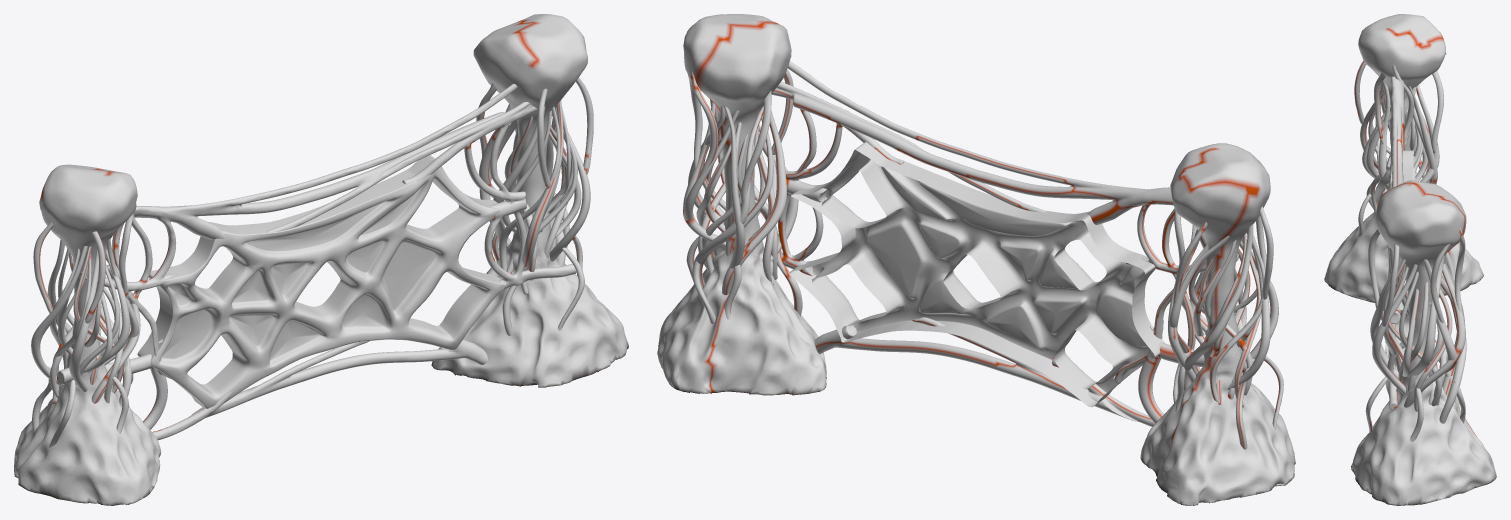
File: SM_Trou5_low.fbx
3 views of the same model, side by side, from view 1: azimuth 30°, elevation 25°; view 2: azimuth 150°, elevation 25°; view 3: azimuth 270°, elevation 25° (orthographic). The views are drawn at different scales.
Visible parts, largest first — view 1: HolePillar_013_SeamsColor, polySurface5, PM3D_Cylinder3D1_3_SeamsColor; view 2: HolePillar_013_SeamsColor, polySurface5, PM3D_Cylinder3D1_3_SeamsColor; view 3: HolePillar_013_SeamsColor, PM3D_Cylinder3D1_3_SeamsColor, polySurface5.
Part boxes in pixels (left/top/right/bottom): HolePillar_013_SeamsColor: left=14, top=14, right=628, bottom=505; polySurface5: left=137, top=155, right=505, bottom=408; PM3D_Cylinder3D1_3_SeamsColor: left=57, top=84, right=576, bottom=440; HolePillar_013_SeamsColor: left=657, top=14, right=1295, bottom=505; polySurface5: left=789, top=142, right=1165, bottom=407; PM3D_Cylinder3D1_3_SeamsColor: left=771, top=61, right=1254, bottom=426; HolePillar_013_SeamsColor: left=1324, top=14, right=1496, bottom=505; PM3D_Cylinder3D1_3_SeamsColor: left=1388, top=76, right=1404, bottom=410; polySurface5: left=1385, top=150, right=1415, bottom=394.
Size of the model in its own units: 3490 by 1817 by 1006.
